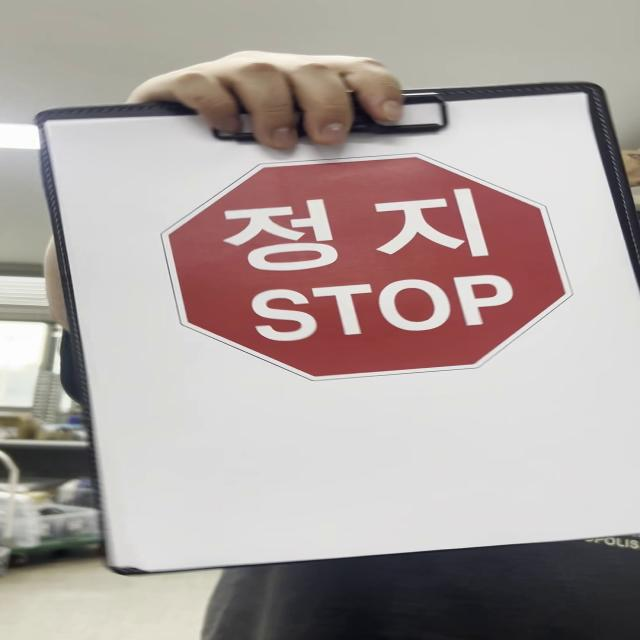stop: (157, 156, 580, 383)
